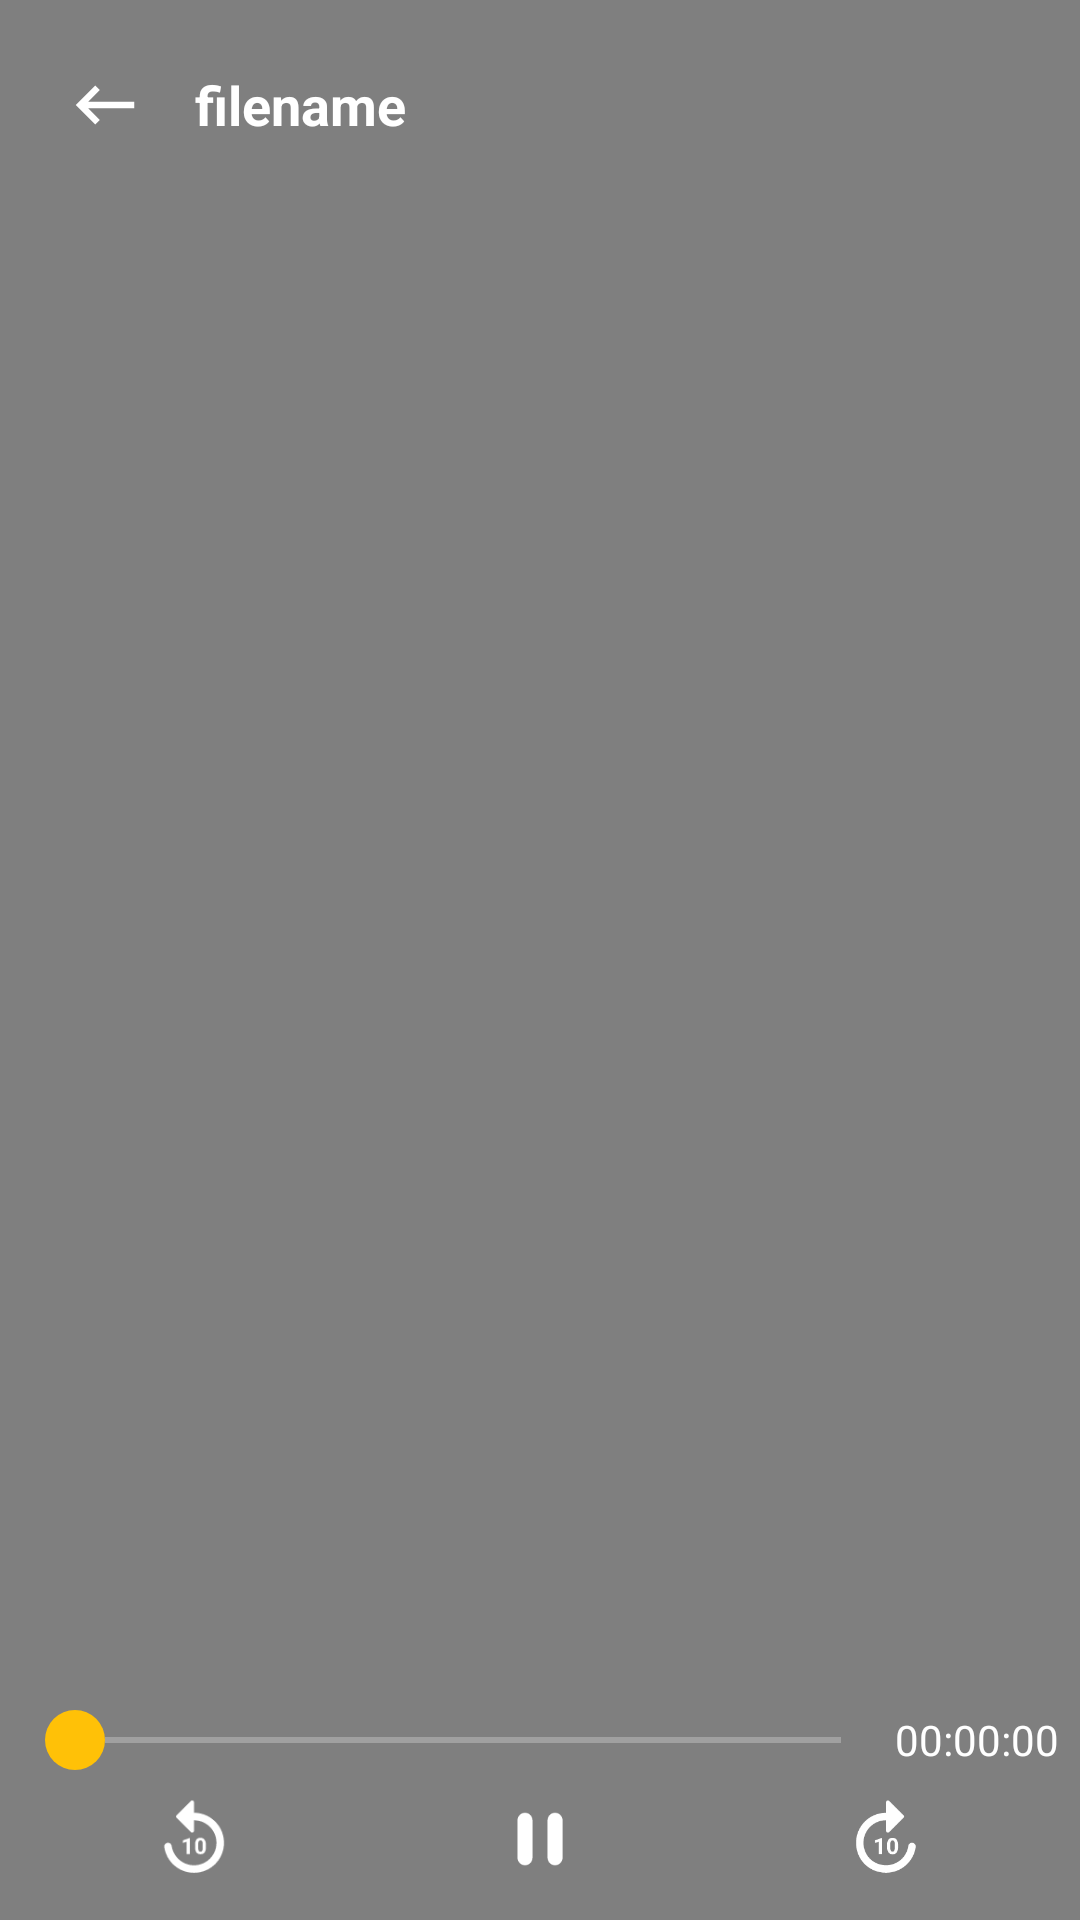

Icons on this 1080px×1920px Android screen, each with the point to tap as (x=x, y=y):
back: (x=105, y=105)
forward: (x=886, y=1836)
pause: (x=540, y=1839)
replay: (x=194, y=1836)
